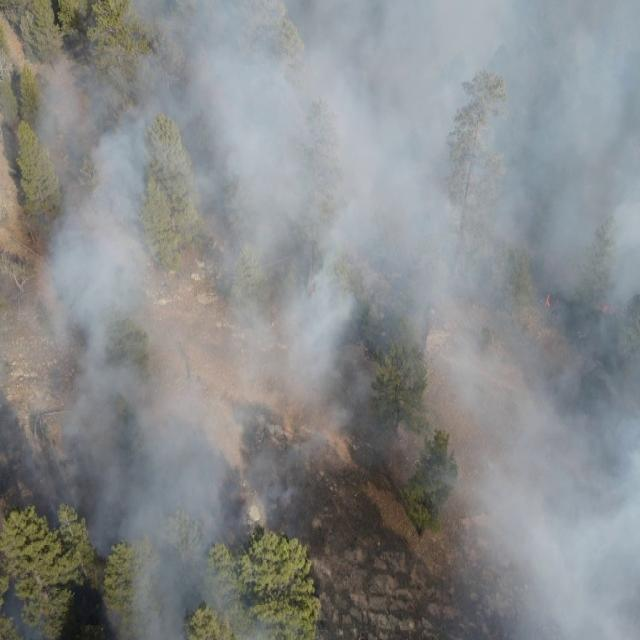fire: (594, 298, 624, 318), (543, 293, 552, 313)
smoke: (0, 0, 640, 640)
